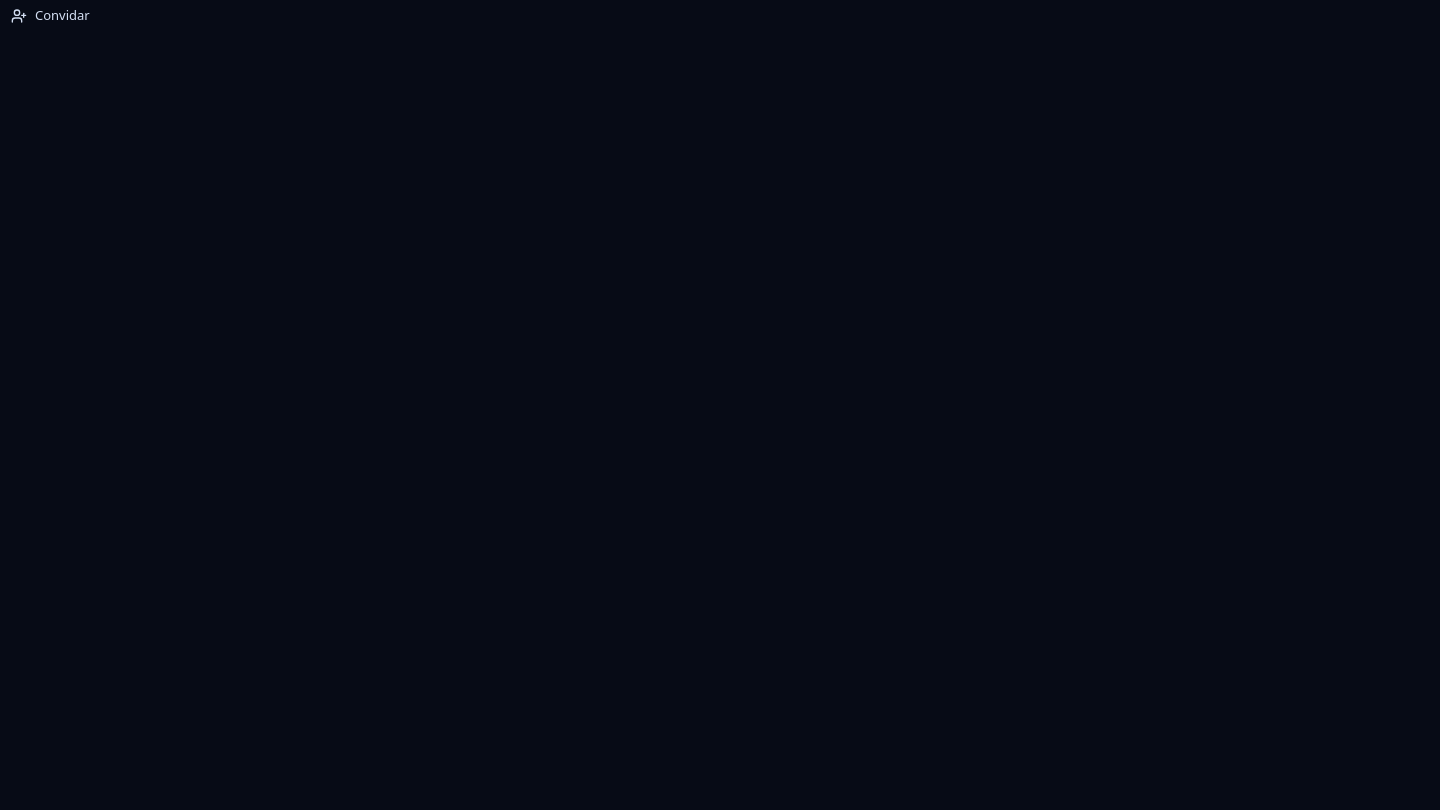
Test: QuickInvite › copia o link
Step 1. Click the button "Convidar" → x=50, y=16, box [0,0,101,32]
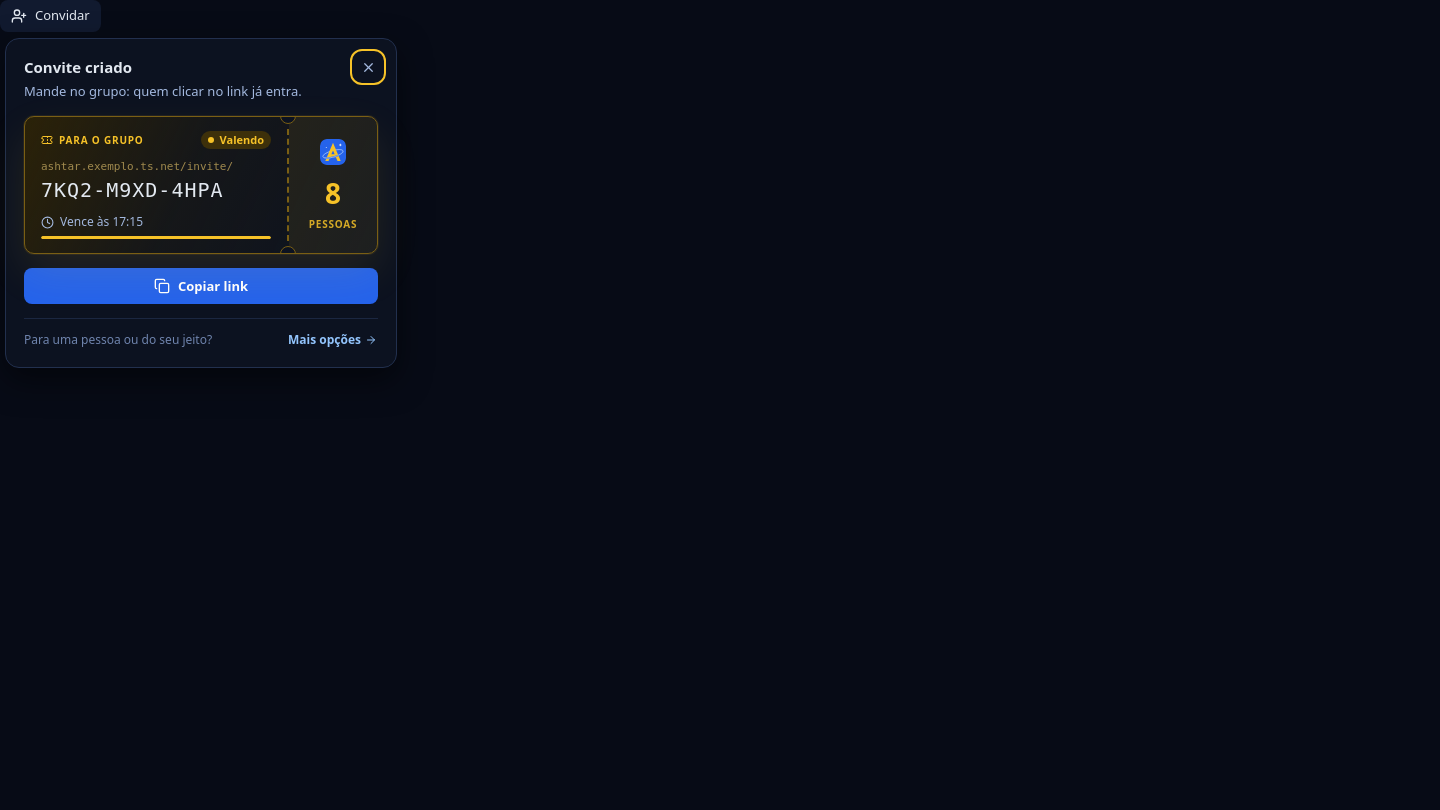
Step 2. Click the button "Copiar link" → x=201, y=286, box [24,268,378,304]
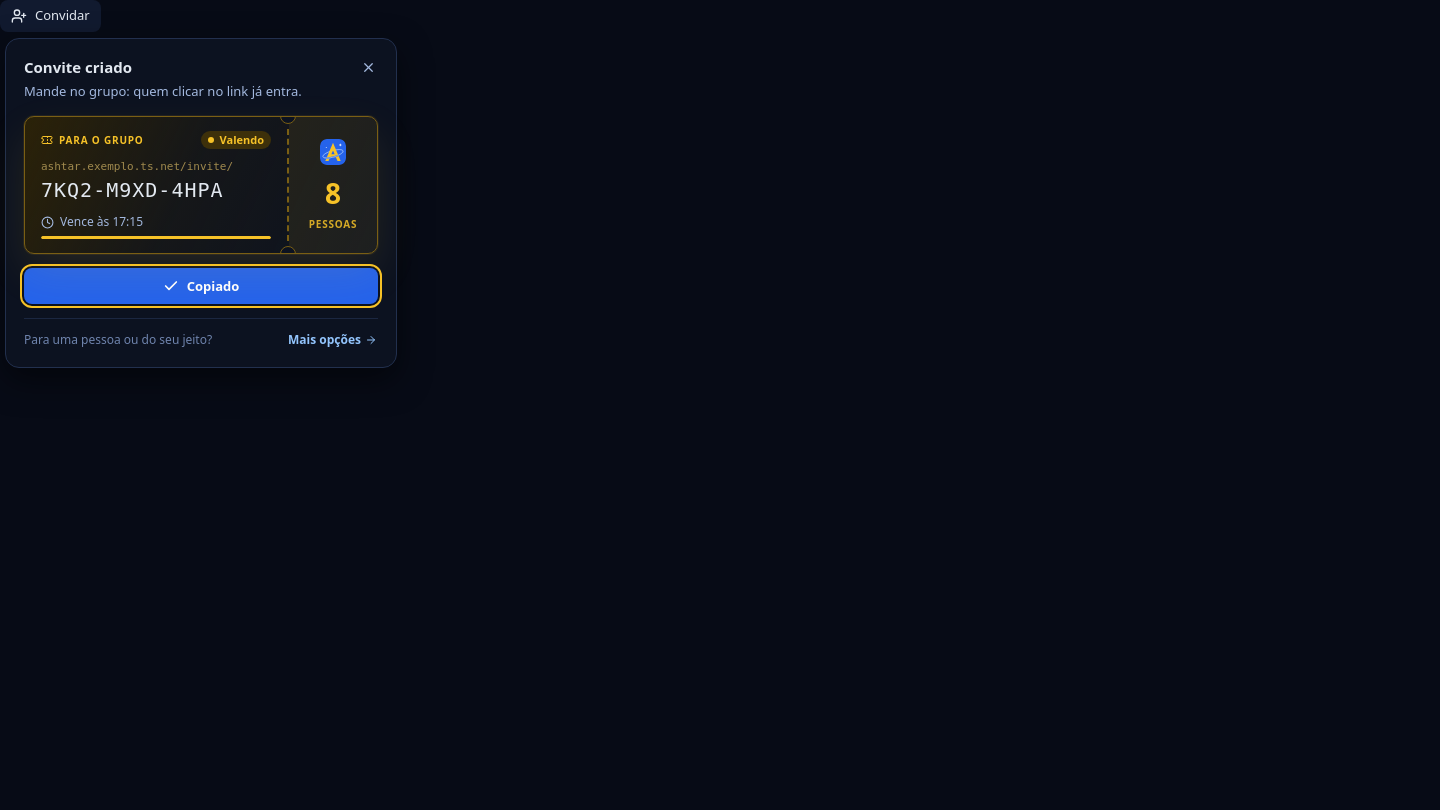
Expected: the button "Copiado" is shown, [24,268,378,304]
